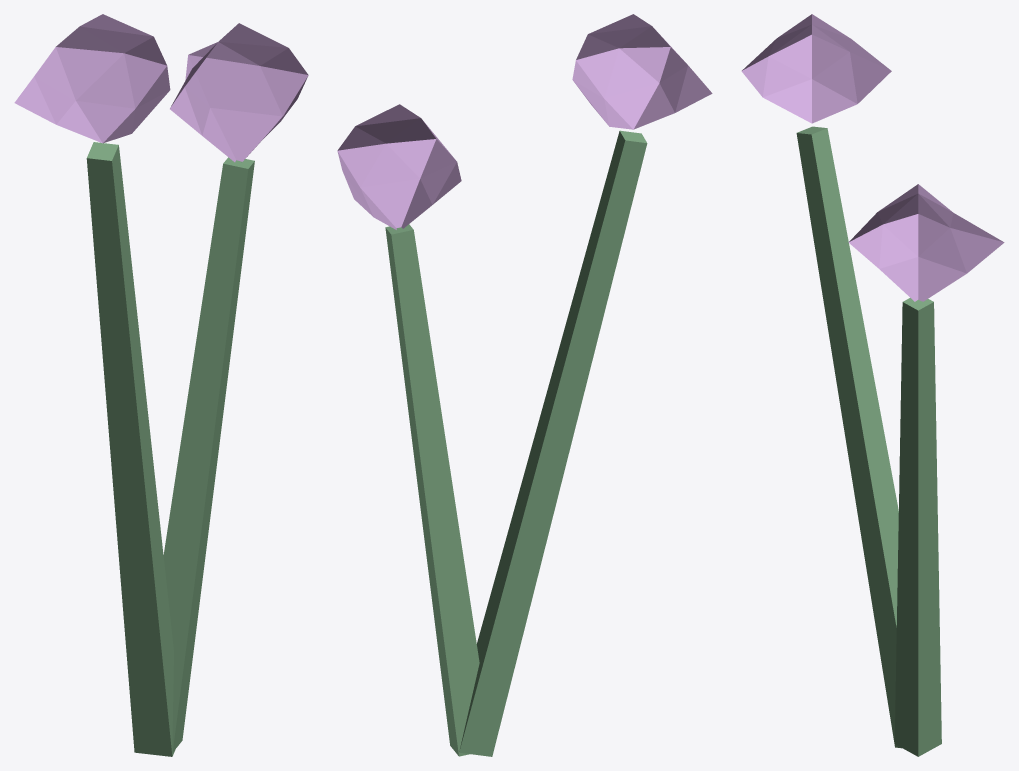
The model's file is flower_v12.glb.
3 renders of one model, left to right at view 1: azimuth 30°, elevation 25°; view 2: azimuth 150°, elevation 25°; view 3: azimuth 270°, elevation 25°, orthographic. The views are drawn at different scales.
Parts seen in each view (by area): view 1: lod0; view 2: lod0; view 3: lod0.
Part boxes in pixels (x1,y1,x2,y2): lod0: (14, 14, 308, 756); lod0: (337, 14, 712, 756); lod0: (741, 14, 1004, 756).
Size of what is drawn, in the model's own units: 0.2665 by 0.5763 by 0.2008.
